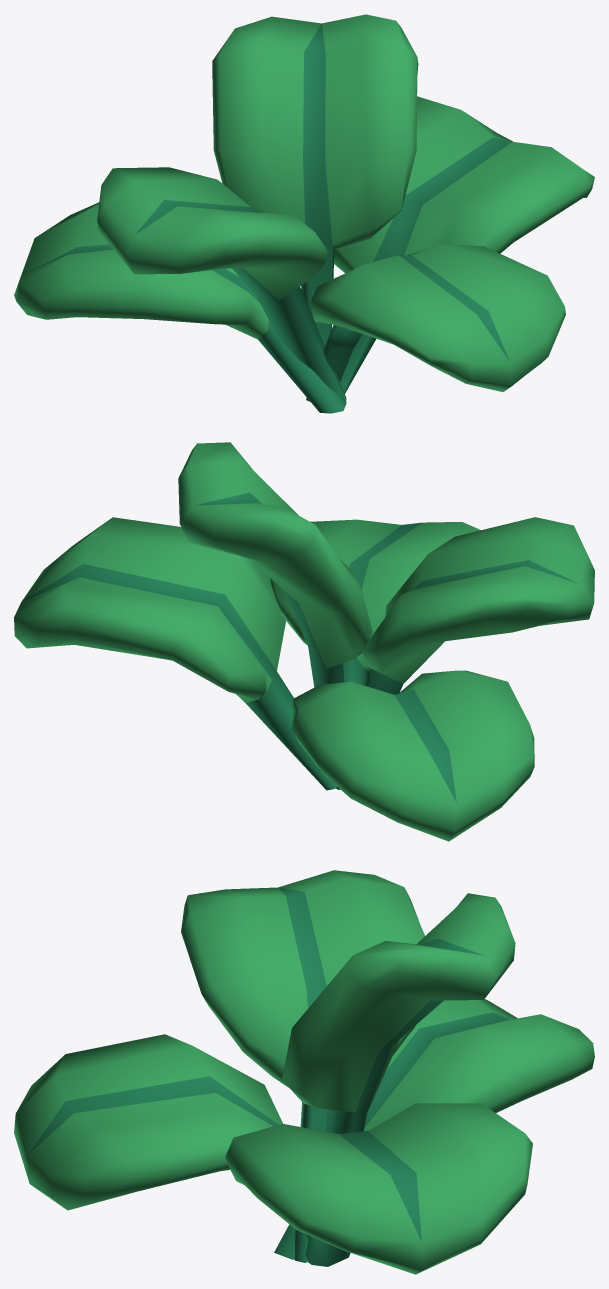
Rendered from Herb_A_03_LOD2.gltf.
The picture shows the model from 3 angles, top to bottom: view 1: azimuth 30°, elevation 25°; view 2: azimuth 150°, elevation 25°; view 3: azimuth 270°, elevation 25°; orthographic projection. The views are drawn at different scales.
Parts seen in each view (by area): view 1: Herb_A_03_LOD2_Plane.058; view 2: Herb_A_03_LOD2_Plane.058; view 3: Herb_A_03_LOD2_Plane.058.
Boxes of the visible parts, x1,y1,x2,y2 form: Herb_A_03_LOD2_Plane.058: (14, 14, 594, 413); Herb_A_03_LOD2_Plane.058: (14, 442, 594, 841); Herb_A_03_LOD2_Plane.058: (14, 870, 594, 1274).
Size of the model in its own units: 6.92 by 4.29 by 6.16.
Materials: 1 (1 with a texture image).
